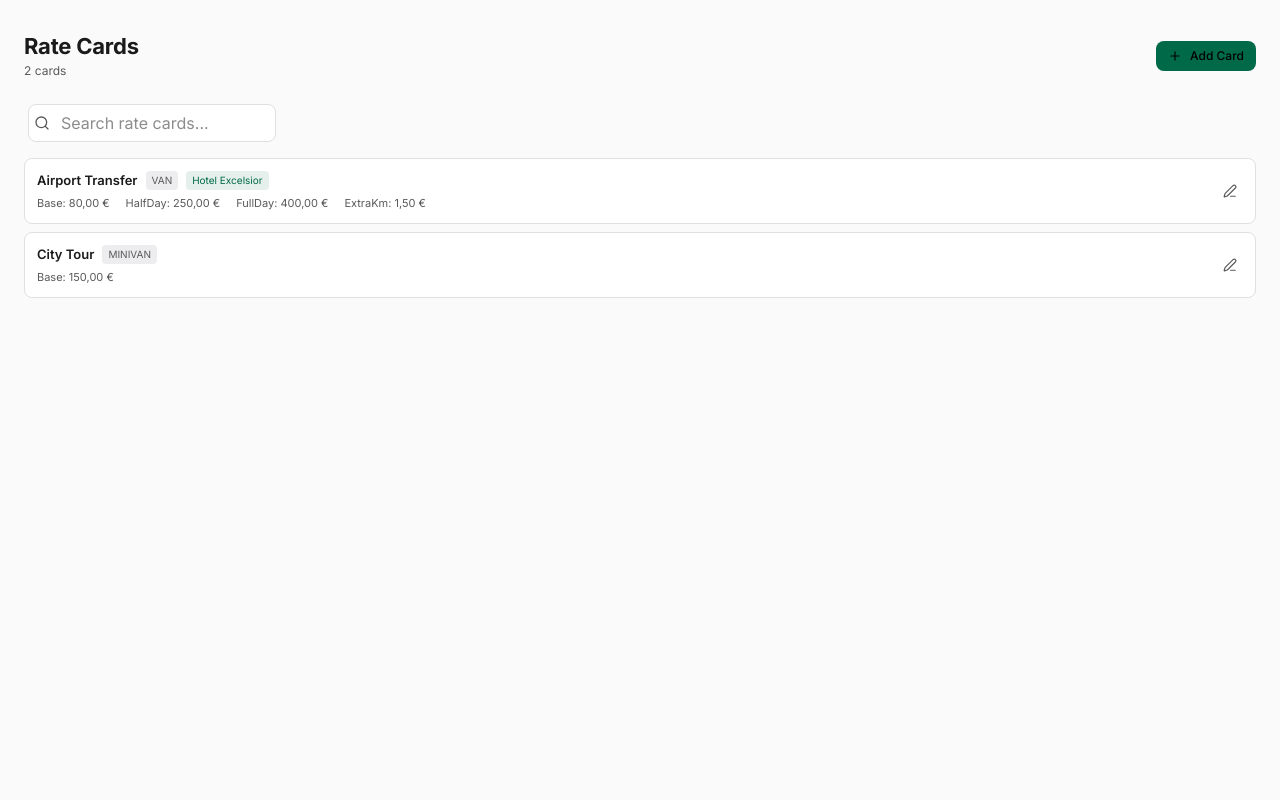
it: RateCardScreen › disables save button when name is empty
Check: the text "Airport Transfer" is shown, box [37,171,138,190]
What coordinates should you click on to do the following:
click the button "Add Card"
I would click on:
 (1206, 56)
Its box is [1156,41,1256,71].
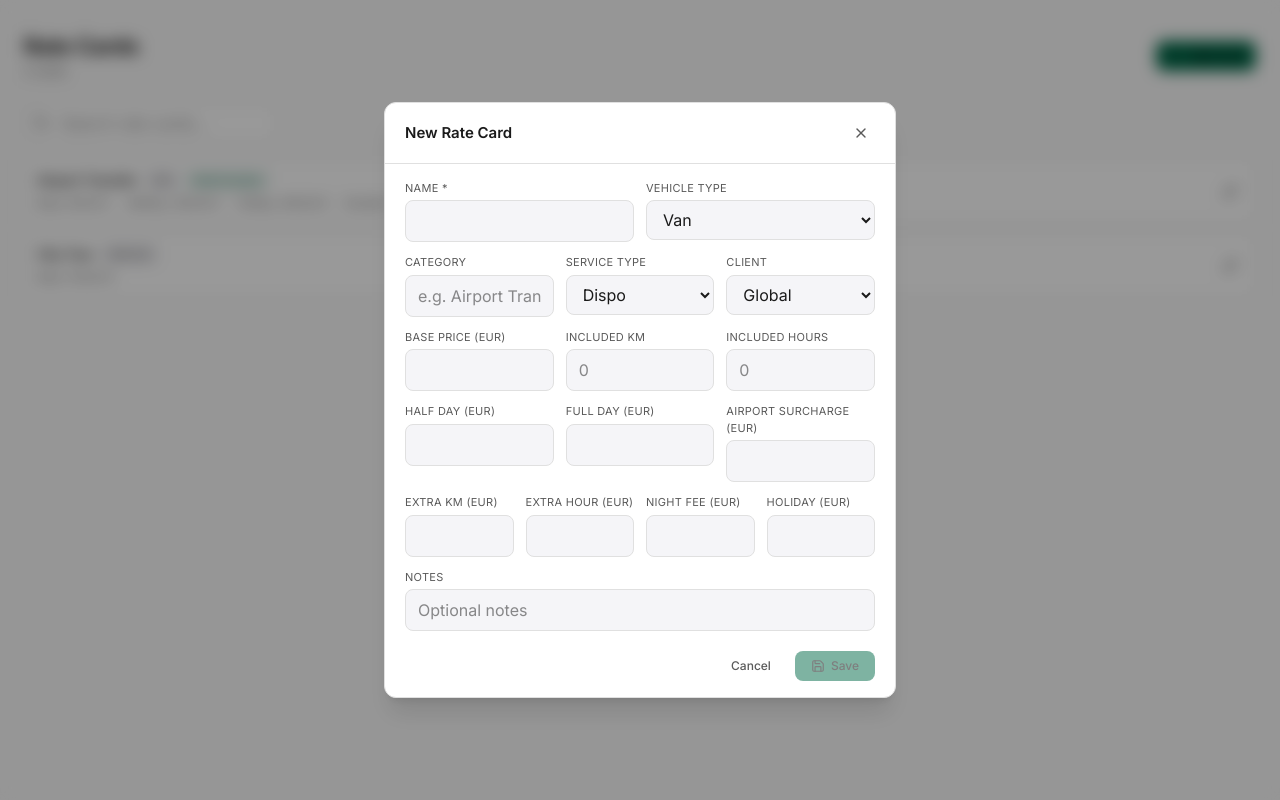
Check: the heading "New Rate Card" is shown, box [405,122,512,144]
Check: the button "Save" is disabled, box [795,651,875,681]
